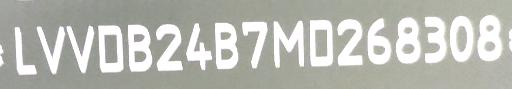letter: (270, 19, 306, 70), (34, 24, 66, 79), (153, 22, 185, 73), (64, 24, 96, 75), (96, 24, 126, 75), (392, 16, 422, 65), (364, 17, 394, 66), (184, 22, 214, 71), (13, 24, 39, 79), (240, 18, 268, 69), (126, 23, 154, 74), (475, 14, 503, 63), (336, 18, 364, 67), (307, 19, 335, 68), (212, 20, 240, 69), (448, 14, 474, 63), (422, 14, 446, 63)
